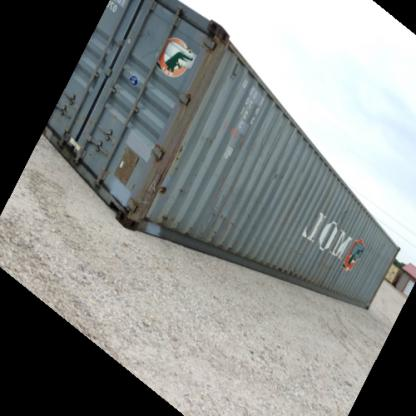Damage: (207, 206, 250, 254), (319, 241, 349, 285), (336, 199, 360, 231), (169, 143, 187, 176), (266, 165, 290, 181), (158, 209, 176, 226), (156, 180, 170, 197), (176, 186, 189, 197)
